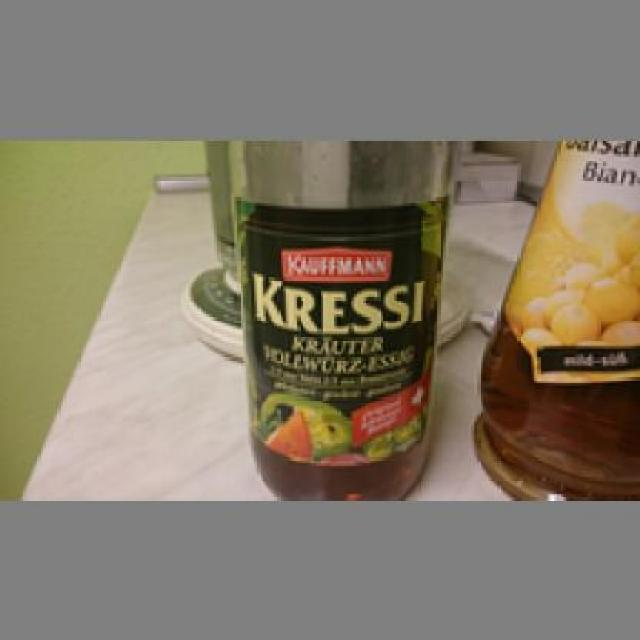Vinegar: (223, 137, 452, 503)
